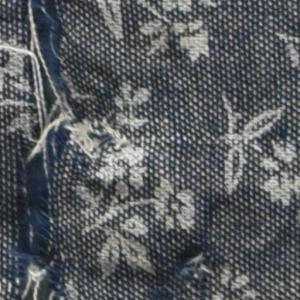Damage: (1, 1, 134, 300), (156, 241, 266, 300), (153, 28, 235, 70)
